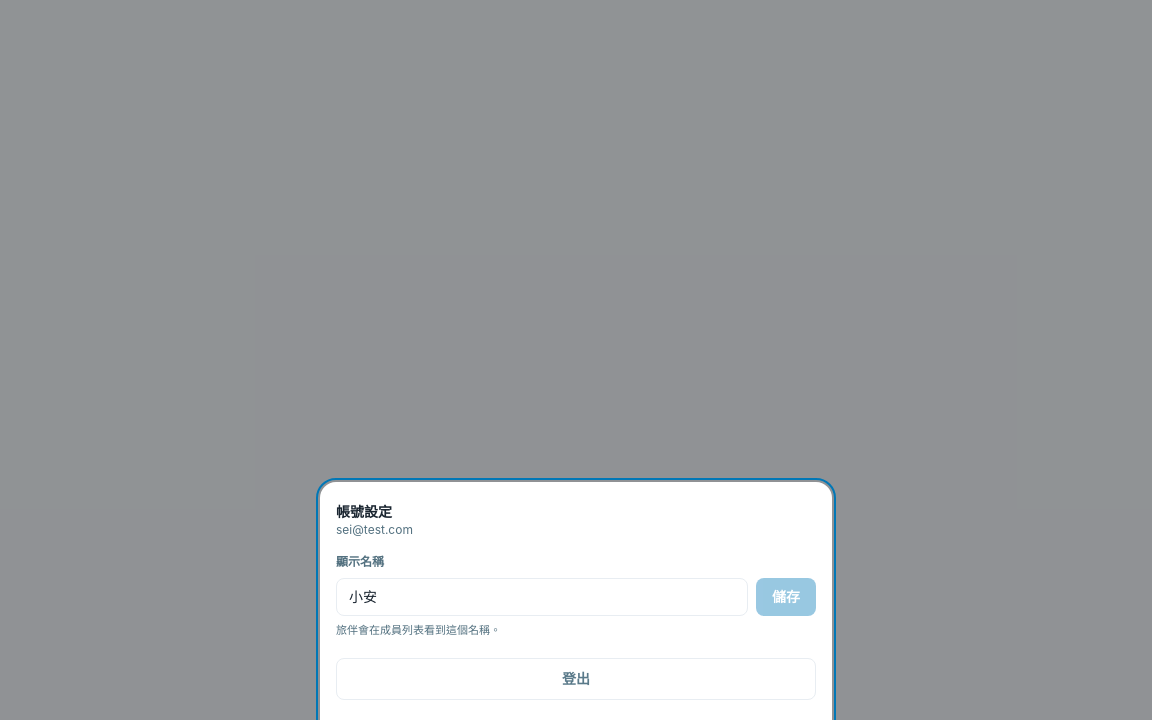
Test: AccountSheet › saves the trimmed name via the save button and shows the saved badge
This screenshot has width=1152, height=720.
Replace the text in the field labelled "顯示名稱" with "  阿安  " at (542, 596), box [336,578,748,616]
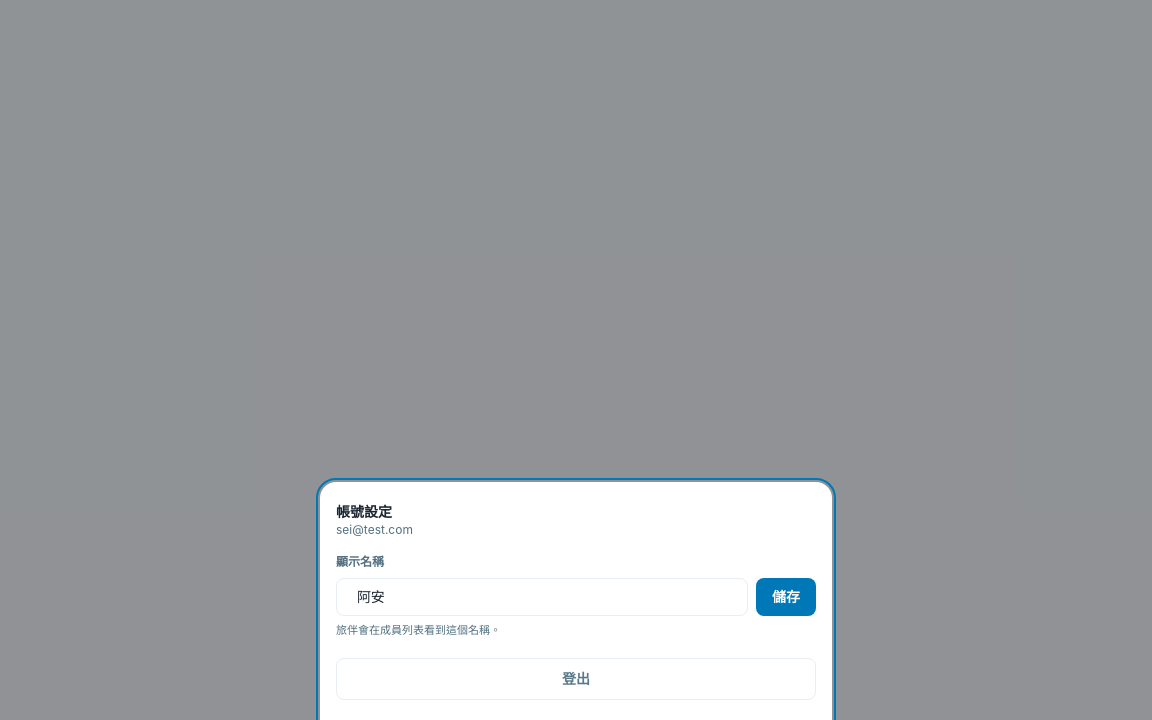
Click the button "儲存" at (786, 596), box [756,578,816,616]
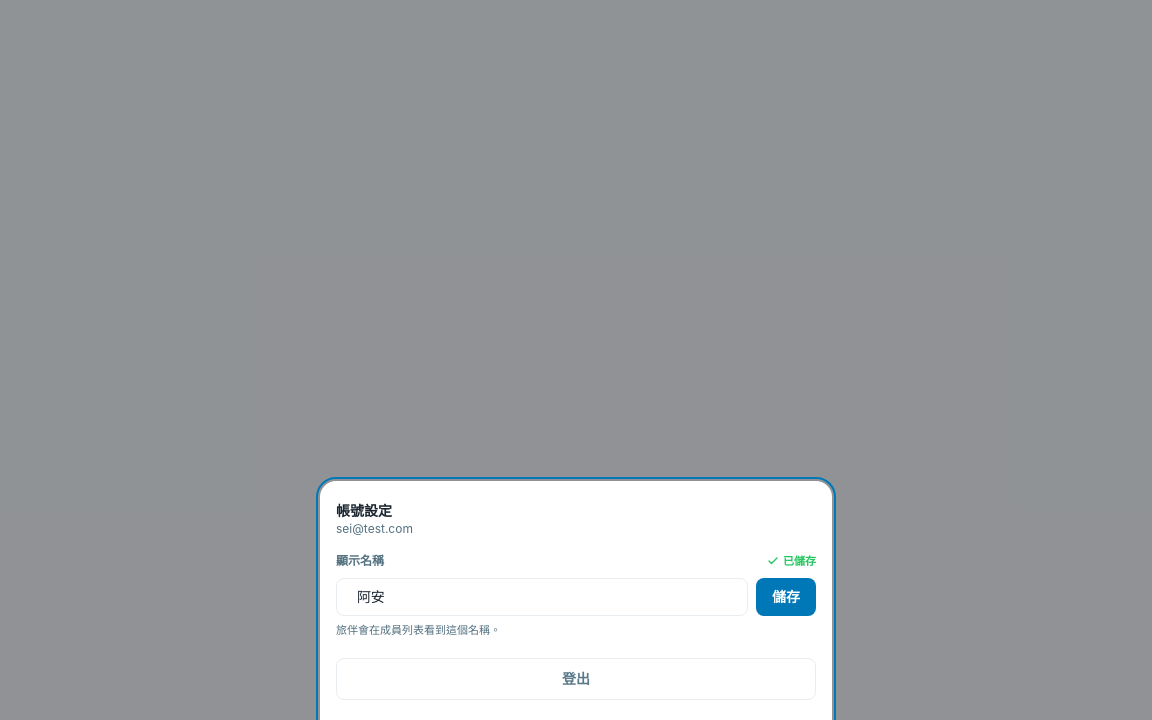
Check: the text "已儲存" is shown, box [767,553,816,570]
